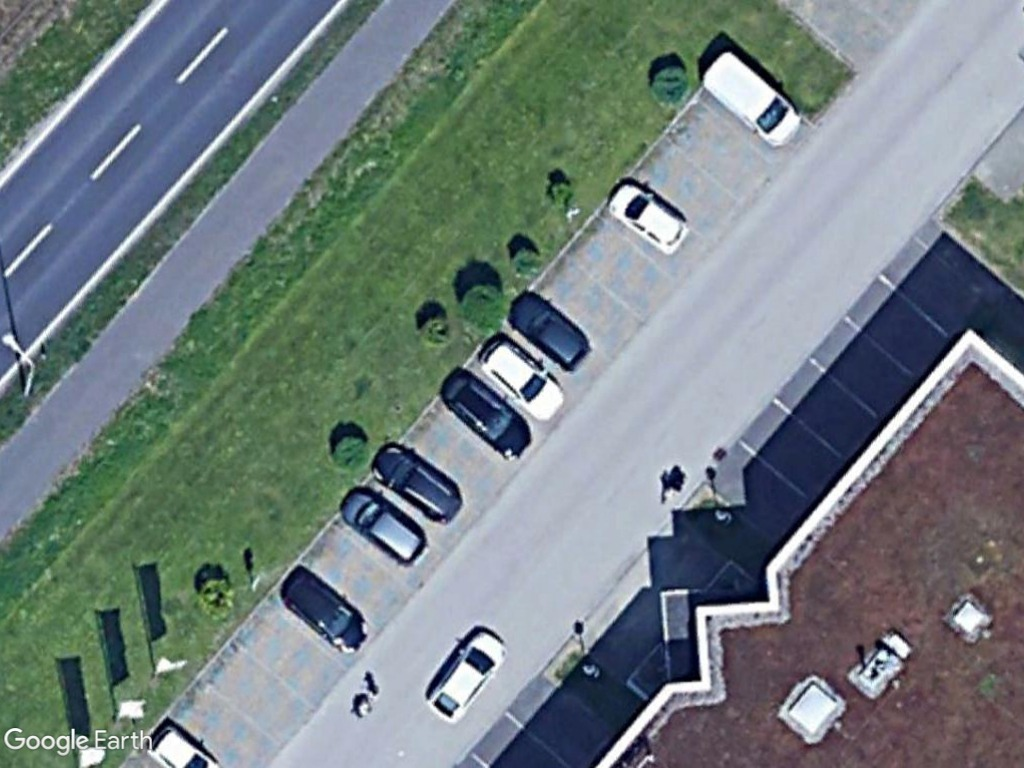car: (440, 368, 537, 460), (424, 630, 510, 728), (279, 571, 375, 658), (368, 441, 467, 525), (478, 335, 566, 424), (339, 487, 432, 571), (603, 181, 694, 259), (508, 290, 594, 372)
van: (698, 46, 806, 155)
